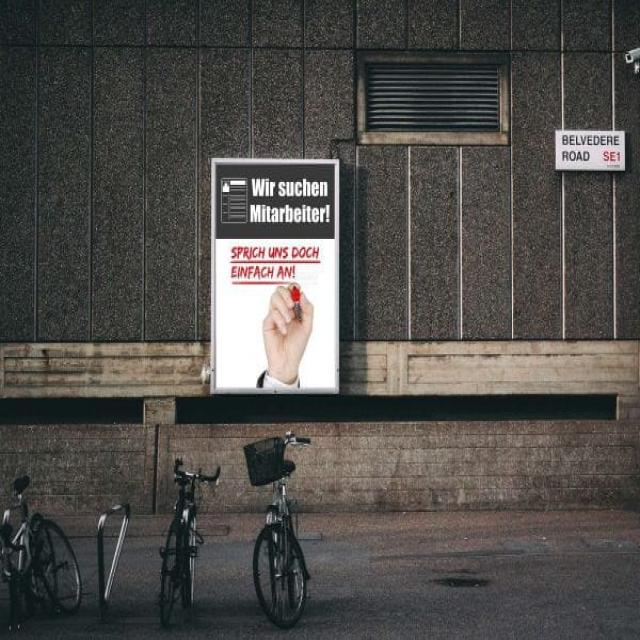Werbetafel frei: (204, 150, 350, 403)
